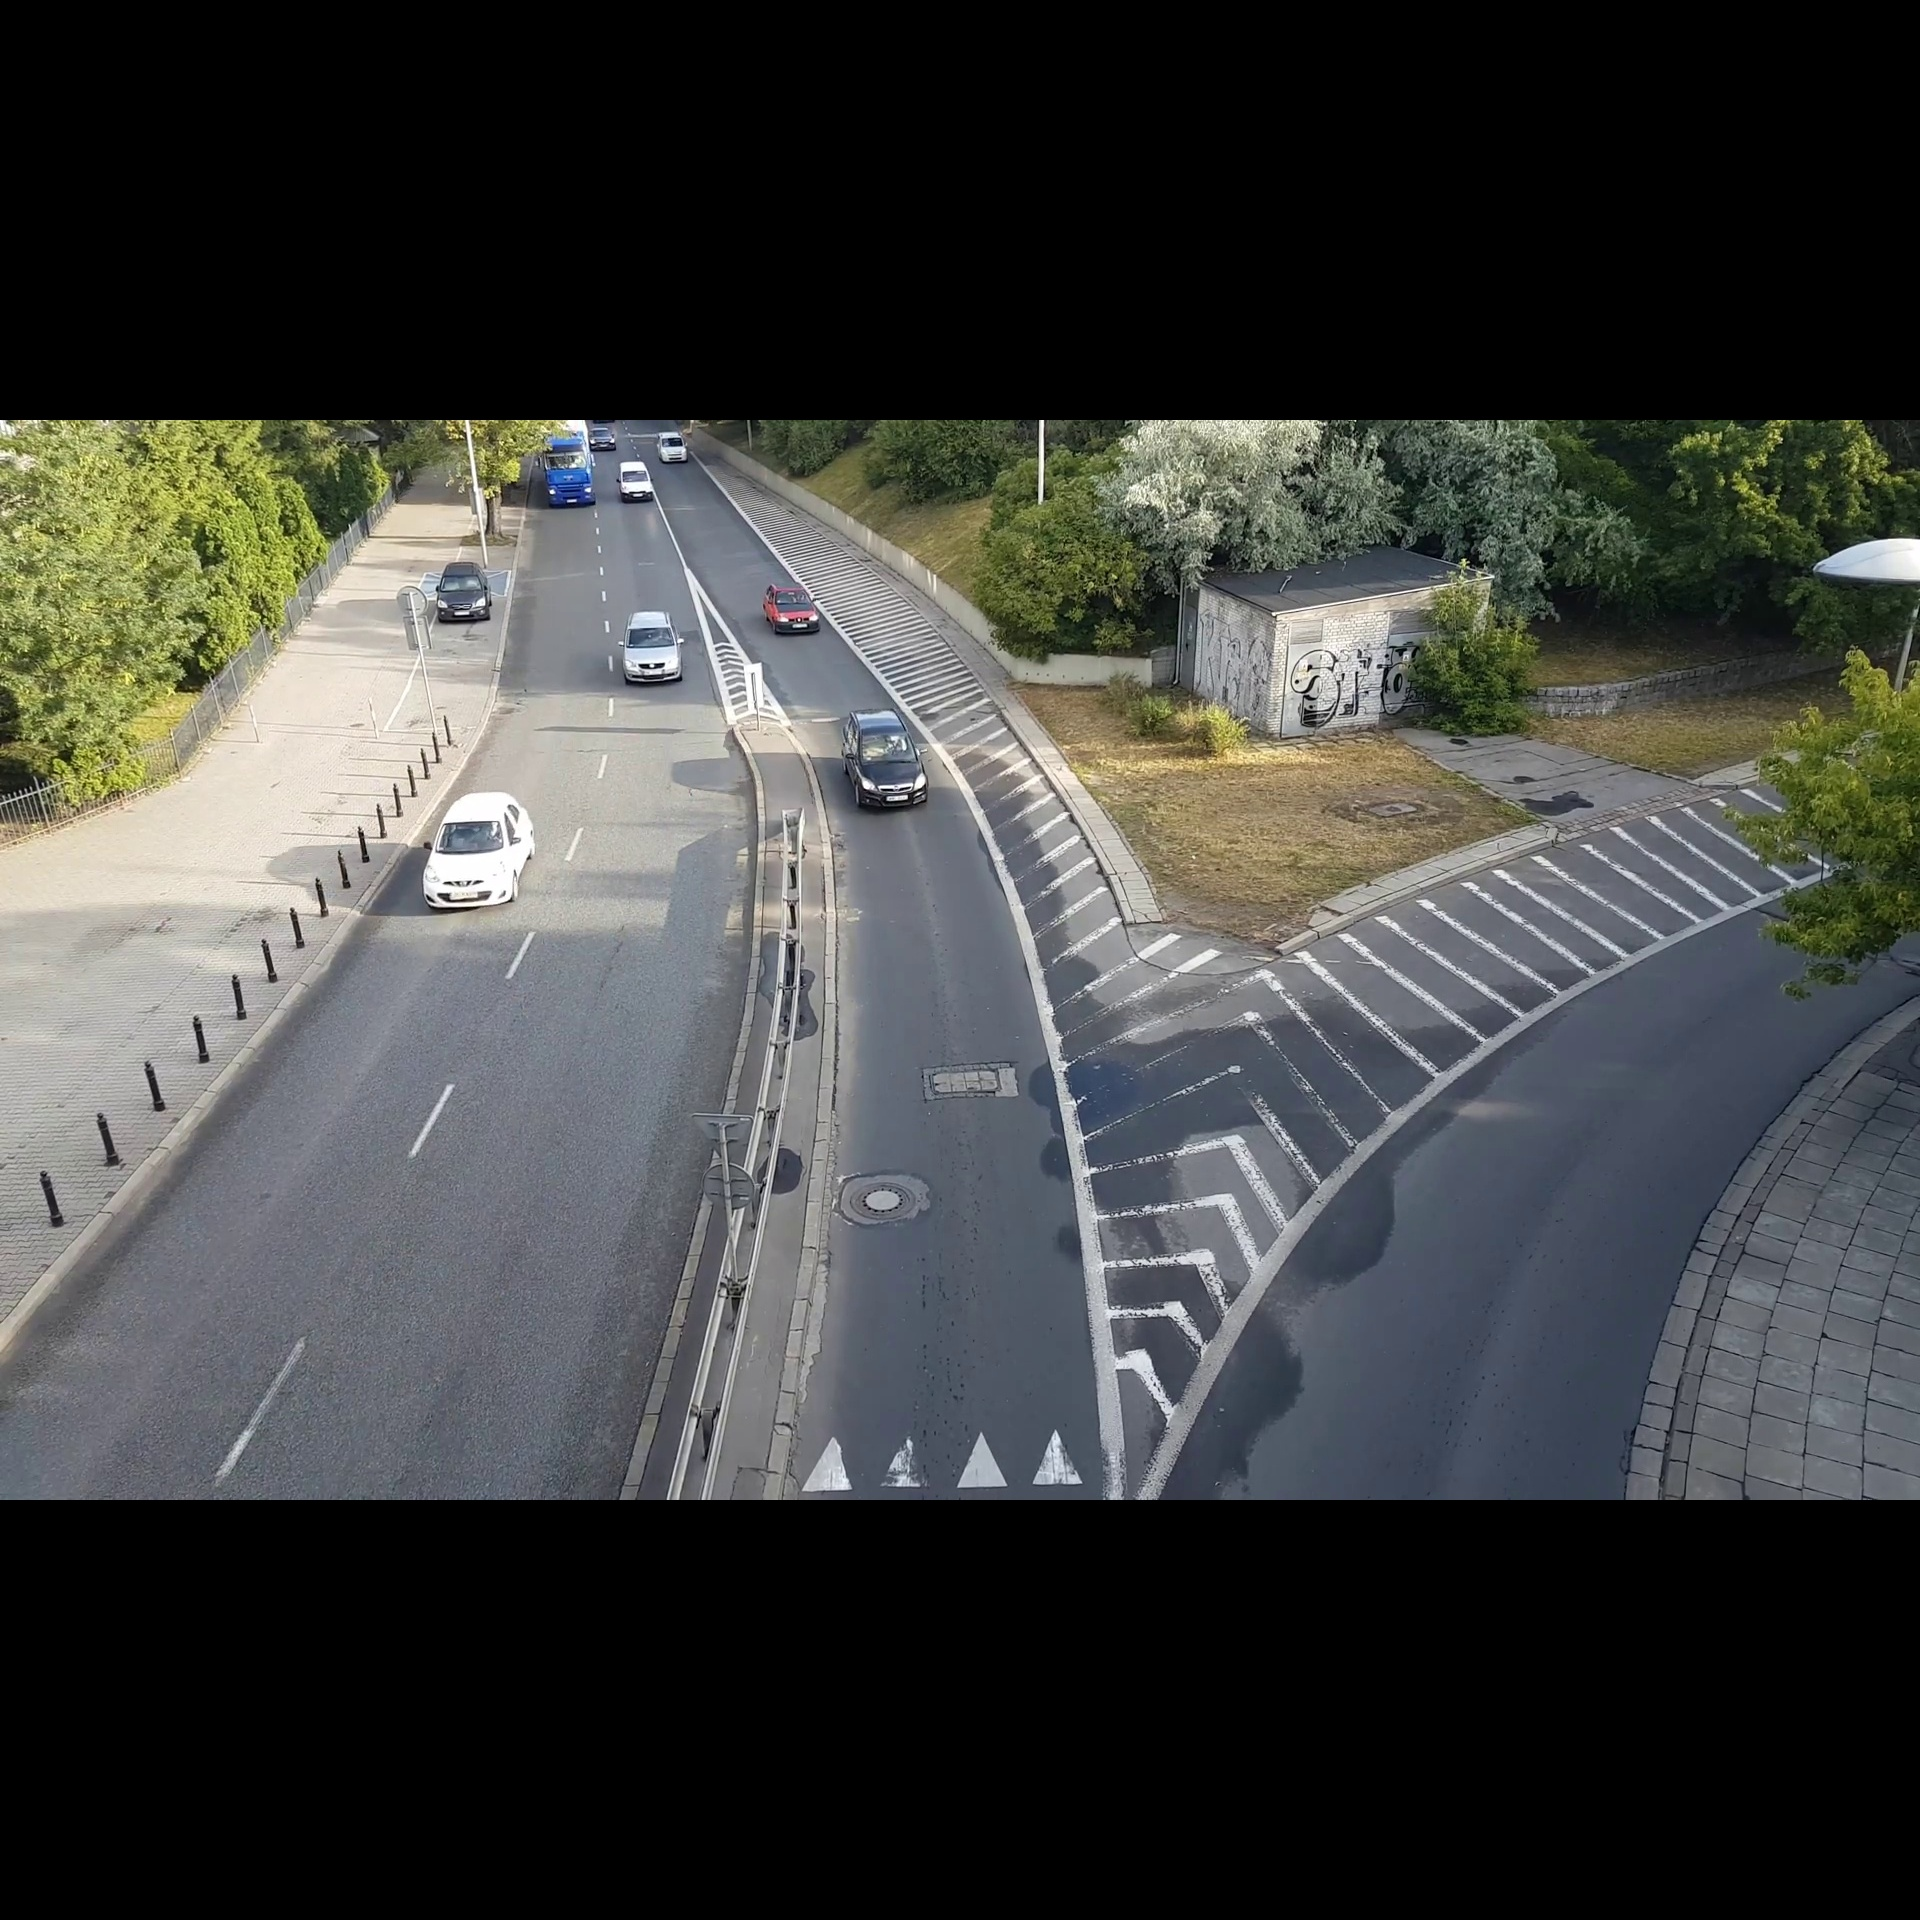vehicle: (415, 784, 547, 920), (833, 698, 934, 818), (621, 605, 695, 691), (538, 420, 594, 512), (433, 556, 498, 629), (758, 578, 825, 642), (615, 457, 658, 506), (654, 431, 689, 464), (587, 427, 617, 452)
